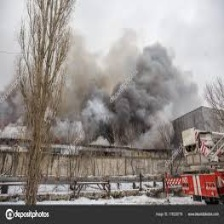smoke: (49, 47, 184, 139)
